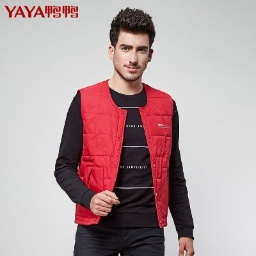face: (109, 8, 156, 82)
